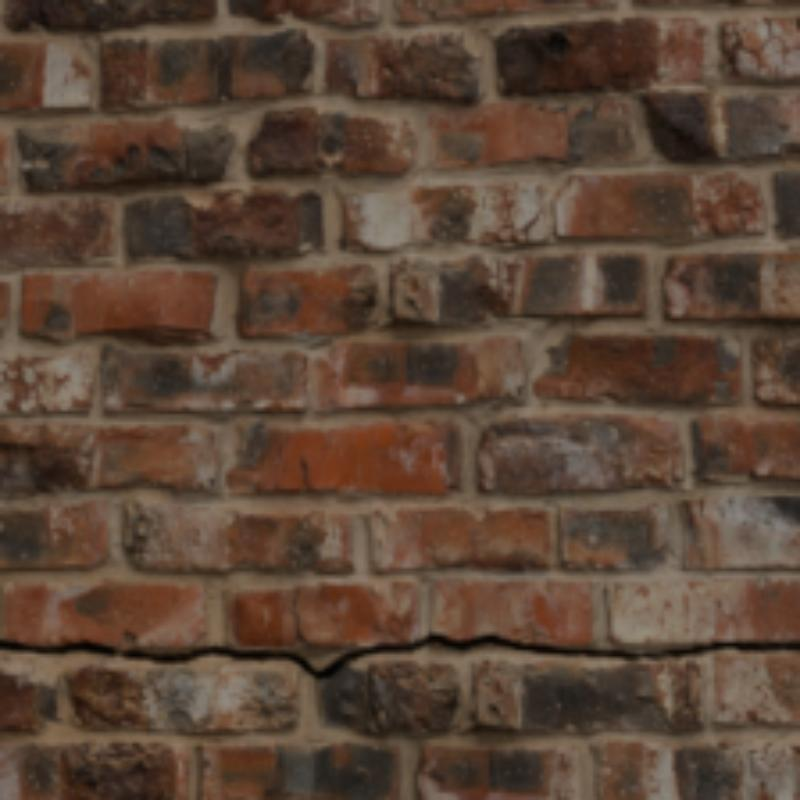pothole: (61, 636, 796, 675), (293, 589, 307, 643), (521, 214, 539, 232)
